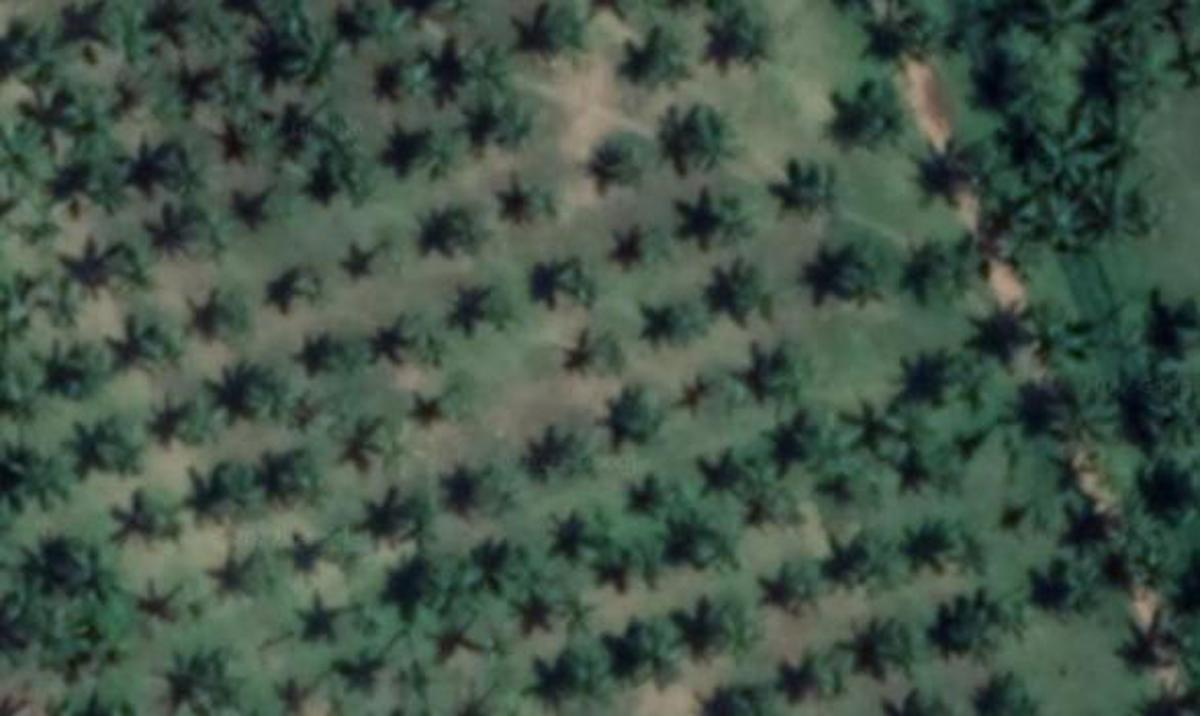coconut: (91, 6, 177, 73), (991, 73, 1077, 139), (1085, 186, 1169, 253), (1044, 376, 1120, 448), (1091, 110, 1165, 182), (1101, 36, 1173, 108), (748, 343, 821, 413), (787, 407, 858, 478), (617, 623, 688, 693), (699, 259, 776, 323), (1130, 294, 1200, 364), (699, 180, 766, 253), (457, 464, 531, 527), (280, 16, 347, 85), (8, 443, 75, 511), (733, 448, 799, 517), (1028, 184, 1093, 253), (421, 204, 492, 267), (547, 656, 621, 716), (770, 556, 838, 621), (147, 143, 216, 206), (53, 92, 114, 163), (81, 595, 147, 660), (921, 237, 983, 306), (942, 343, 1003, 413), (447, 30, 509, 98), (1085, 484, 1150, 548), (844, 79, 907, 145), (533, 425, 598, 488), (707, 605, 770, 668), (188, 650, 255, 709), (394, 118, 457, 180), (1028, 304, 1091, 366), (89, 423, 153, 484), (676, 110, 737, 173), (63, 542, 124, 605), (576, 503, 637, 566), (942, 595, 1005, 656), (4, 22, 63, 87), (1024, 0, 1093, 55), (852, 394, 913, 456), (780, 153, 840, 216), (1032, 126, 1095, 186), (836, 531, 899, 591), (218, 108, 282, 167), (921, 517, 987, 574), (1144, 378, 1200, 445), (179, 202, 247, 257), (30, 270, 91, 331), (12, 184, 73, 245), (519, 4, 582, 63), (202, 286, 265, 345), (631, 26, 690, 87), (484, 544, 543, 605), (715, 12, 778, 69), (868, 615, 924, 679), (772, 648, 842, 699), (688, 519, 750, 576), (838, 253, 897, 312), (425, 562, 484, 621), (948, 139, 1009, 196), (1050, 554, 1105, 617), (968, 198, 1024, 259), (482, 98, 541, 155), (674, 364, 733, 421), (470, 609, 527, 668), (204, 59, 265, 114), (96, 247, 157, 302), (210, 468, 265, 529), (643, 478, 701, 535), (136, 497, 192, 556), (357, 227, 417, 282), (263, 182, 320, 239), (654, 298, 713, 353), (433, 366, 488, 425), (61, 339, 116, 398), (551, 263, 611, 317), (284, 450, 337, 511), (286, 265, 343, 321), (625, 218, 680, 276), (316, 149, 376, 202), (163, 392, 216, 452), (81, 161, 136, 218), (404, 319, 457, 378), (496, 177, 556, 229), (596, 135, 650, 192), (547, 589, 601, 646), (607, 398, 660, 456), (0, 110, 40, 186), (568, 325, 623, 380), (141, 321, 198, 374), (233, 546, 290, 599), (382, 47, 435, 102), (355, 427, 412, 478), (384, 505, 441, 556), (905, 443, 958, 497), (157, 578, 206, 634), (314, 525, 363, 580), (889, 14, 948, 59), (237, 368, 286, 421), (322, 327, 370, 380), (476, 294, 525, 345), (343, 595, 390, 646), (1128, 546, 1173, 599)
